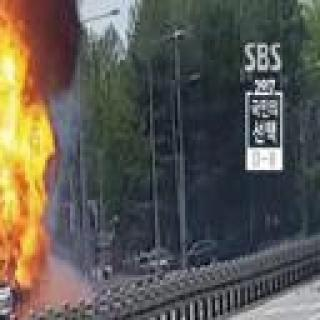fire: (0, 127, 46, 320), (0, 25, 35, 116)
